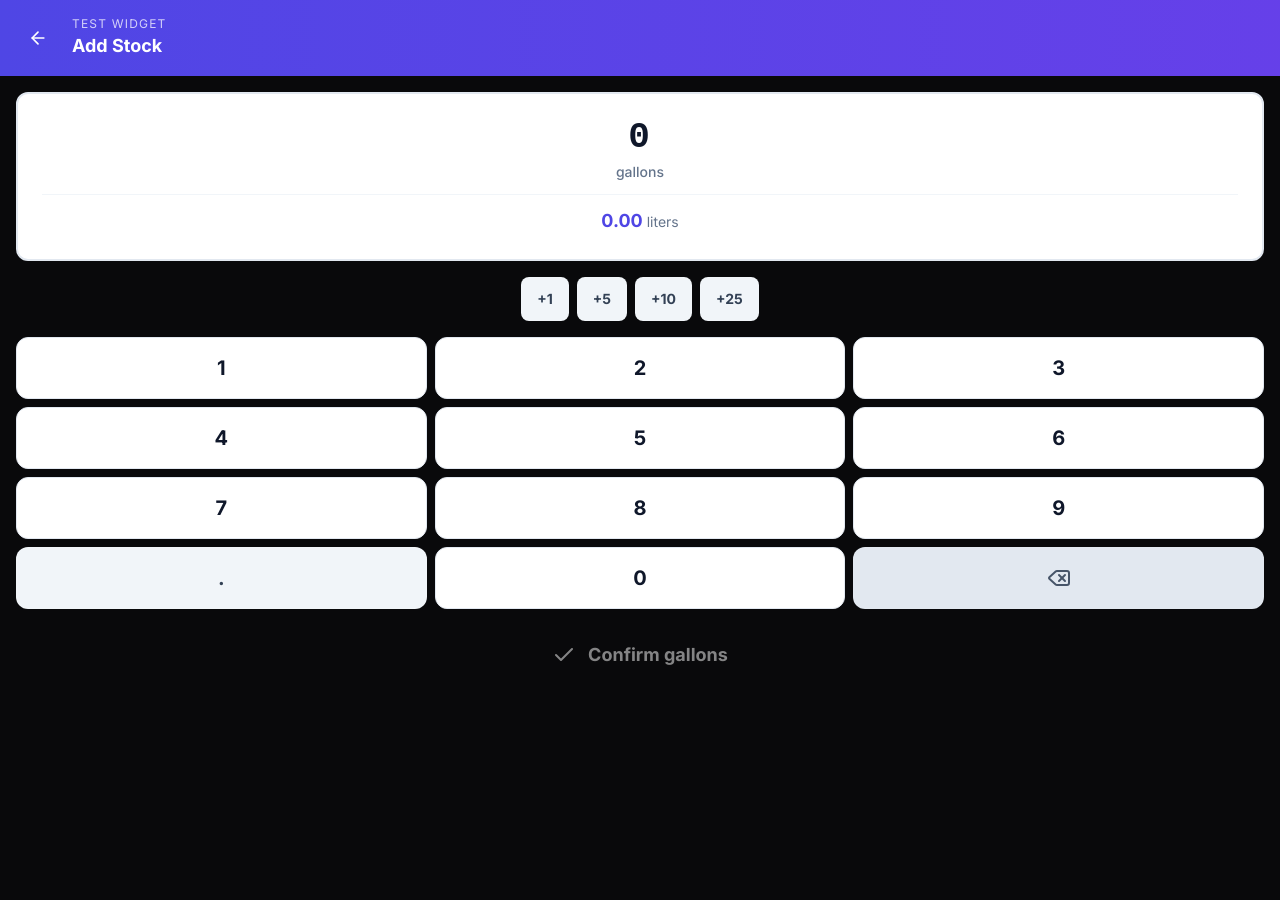
Scenario: QuantityInput › shows converter preview with conversion factor
Click the button with test id "key-2" at (640, 368), box [435, 337, 845, 399]
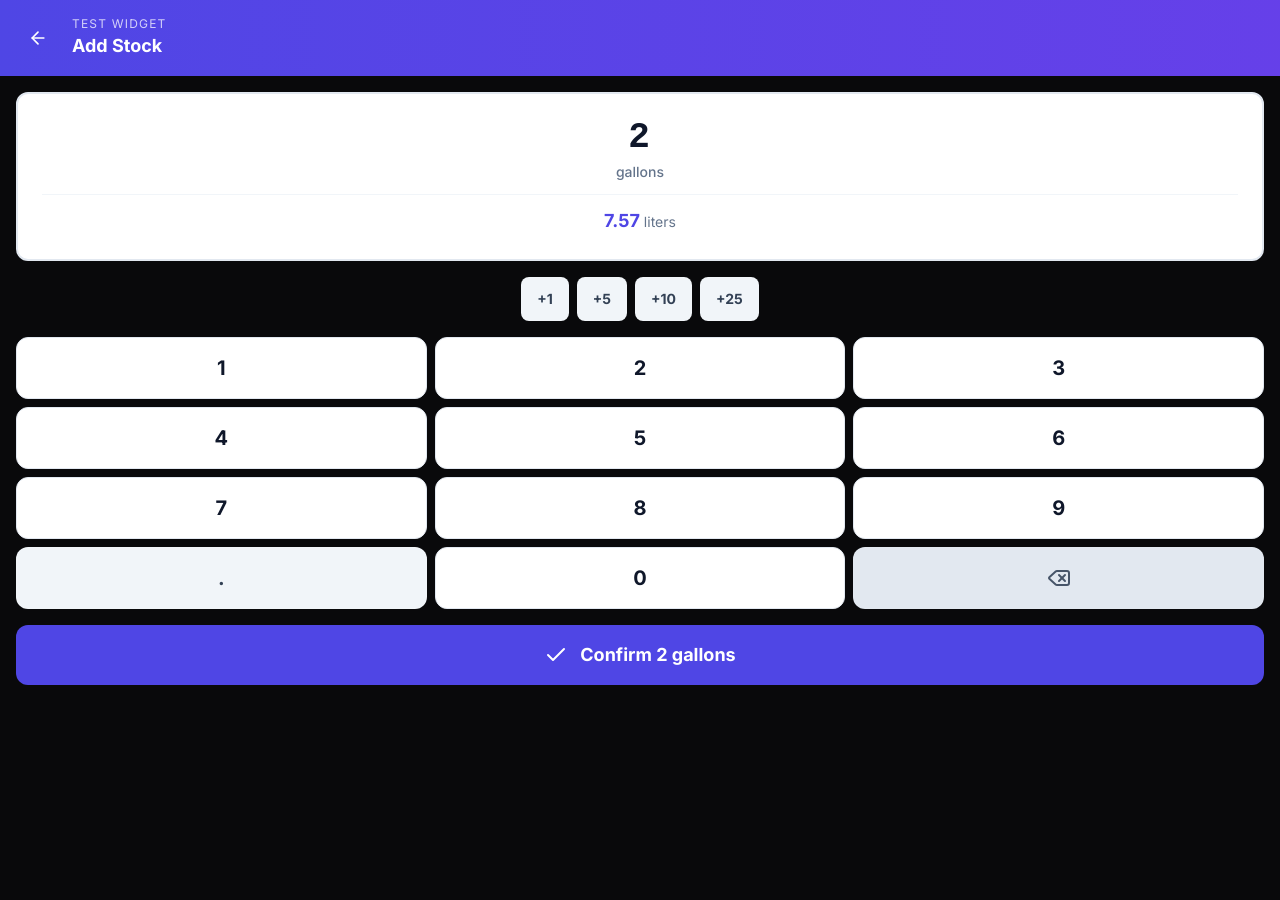
Expected: the element with test id "converter-preview" shows "liters", [644, 213, 676, 230]
Expected: the element with test id "converter-preview" shows "7.57", [604, 210, 640, 231]
